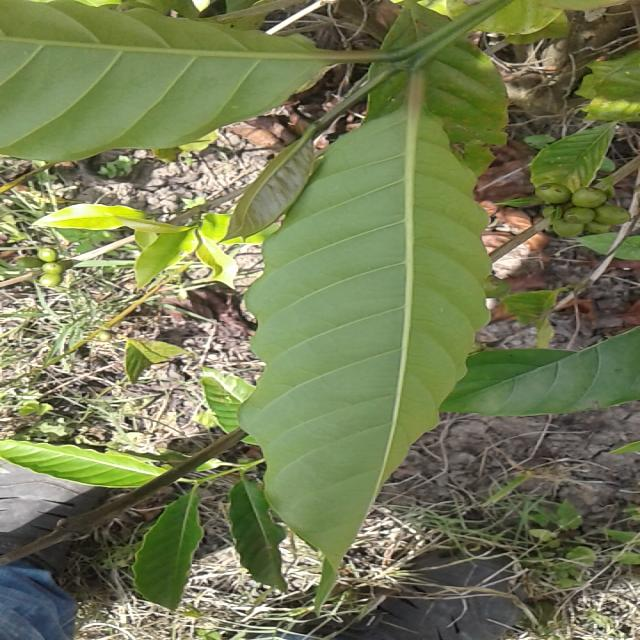Sanas: (231, 77, 490, 602)
